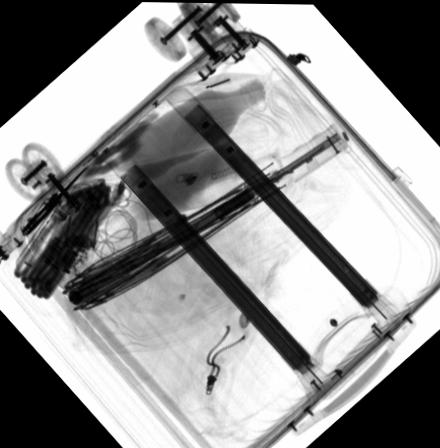Knife: (21, 163, 89, 233)
